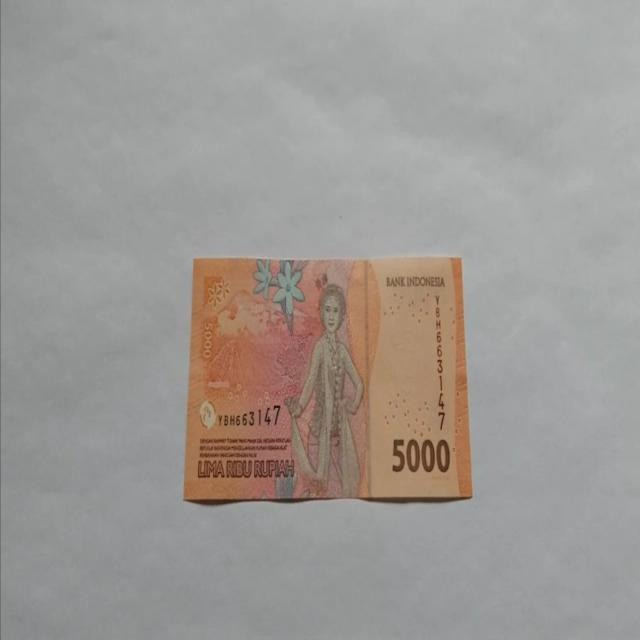lima ribu rupiah: (183, 254, 473, 504), (283, 282, 365, 498)
